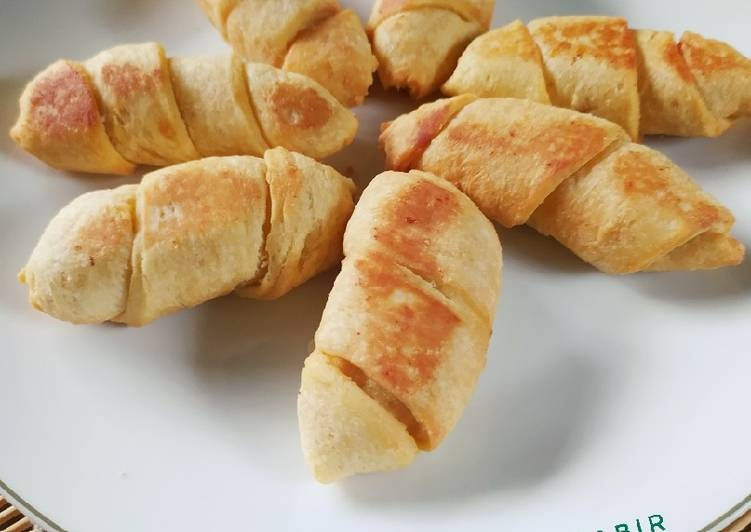pisang_molen: (296, 167, 505, 499), (382, 100, 746, 278), (17, 148, 357, 324), (11, 42, 344, 165), (442, 15, 750, 145)
